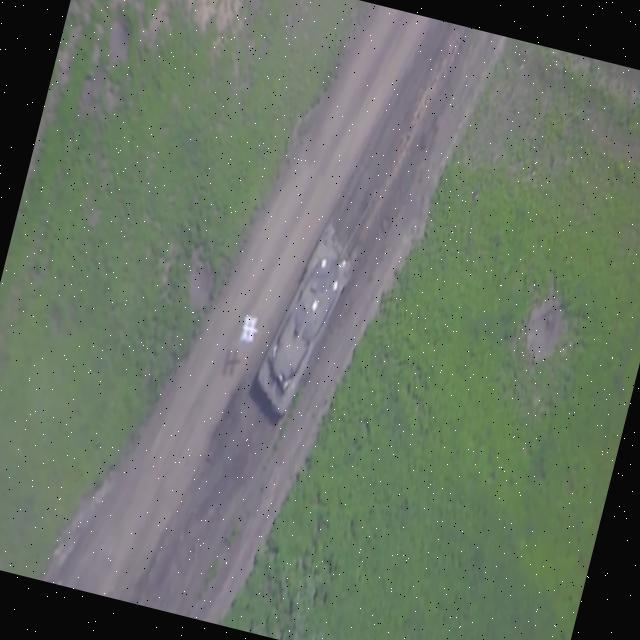MBT: (246, 166, 388, 436)
